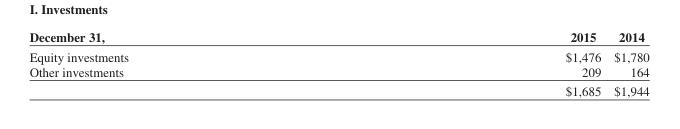table: (28, 29, 648, 98)
table column: (28, 29, 346, 98), (346, 29, 606, 98), (606, 29, 648, 98)
table column header: (28, 29, 648, 46)
table row: (28, 63, 648, 81), (28, 29, 648, 46), (28, 46, 648, 63), (28, 81, 648, 98)
